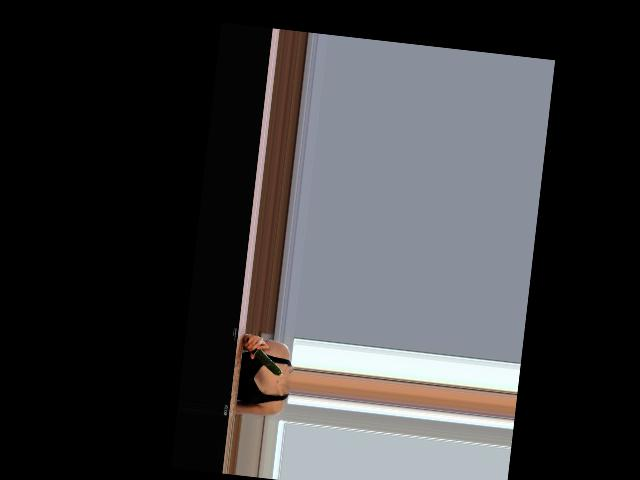cucumber: (242, 337, 285, 375)
